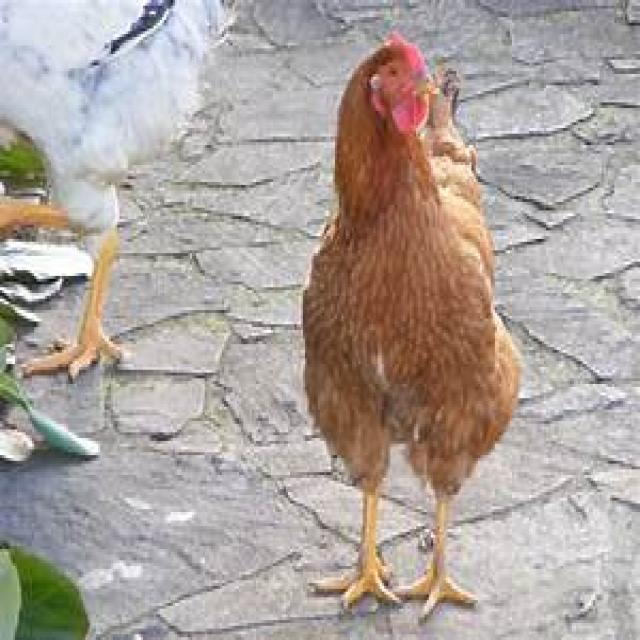hen: (304, 33, 520, 619)
